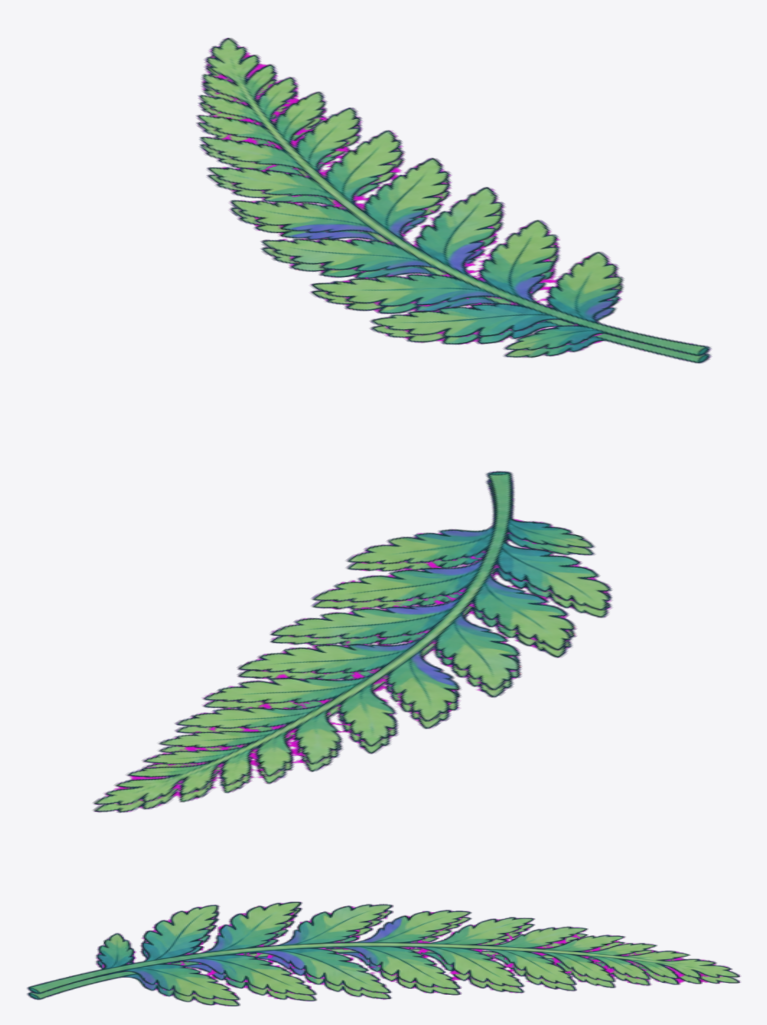
The model's file is leaf_fern.glb.
The picture shows the model from 3 angles, top to bottom: view 1: azimuth 30°, elevation 25°; view 2: azimuth 150°, elevation 25°; view 3: azimuth 270°, elevation 25°; orthographic projection. The views are drawn at different scales.
Visible parts, largest first — view 1: leaf_fern; view 2: leaf_fern; view 3: leaf_fern.
Part boxes in pixels (bbox=[...]): leaf_fern: bbox=[196, 37, 711, 363]; leaf_fern: bbox=[93, 471, 612, 812]; leaf_fern: bbox=[27, 901, 740, 1006].
Bounding box in the file's own units: 2 × 0.05 × 5.73.
Materials: 1 (1 with a texture image).
